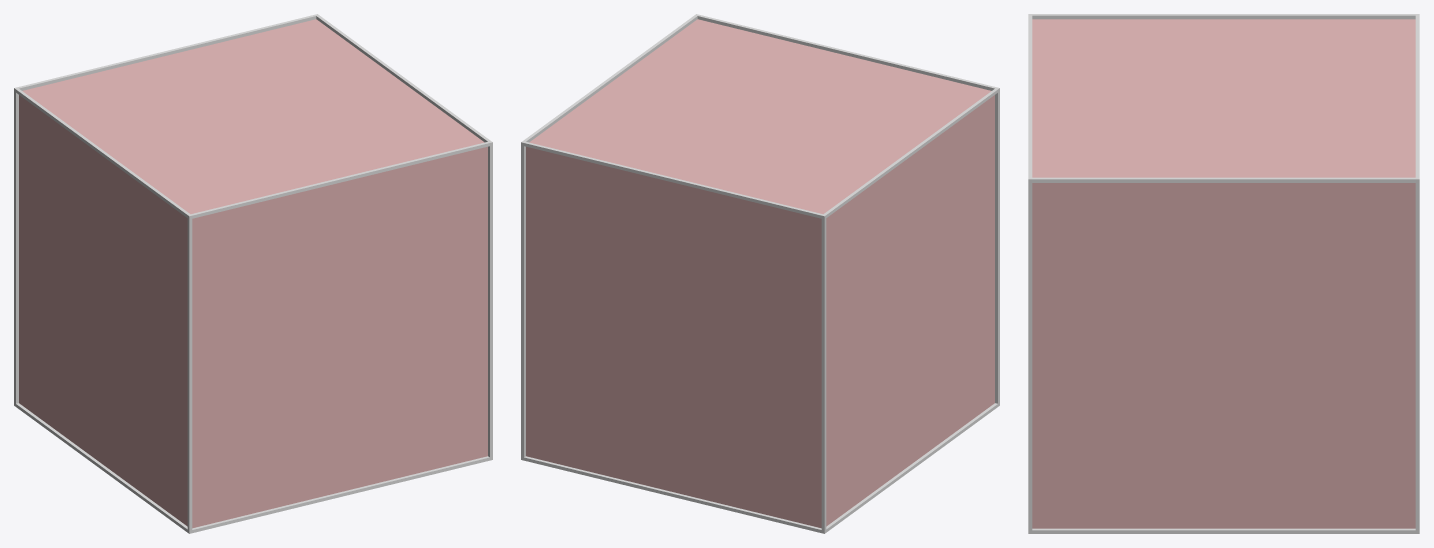
File: biribiri.fbx
The picture shows the model from 3 angles, left to right: view 1: azimuth 30°, elevation 25°; view 2: azimuth 150°, elevation 25°; view 3: azimuth 270°, elevation 25°; orthographic projection. The views are drawn at different scales.
Parts seen in each view (by area): view 1: pCube1; view 2: pCube1; view 3: pCube1.
Boxes of the visible parts, x1,y1,x2,y2 form: pCube1: (14, 14, 492, 533); pCube1: (521, 14, 999, 533); pCube1: (1028, 14, 1419, 533).
Size of the model in its own units: 1 by 1 by 1.
